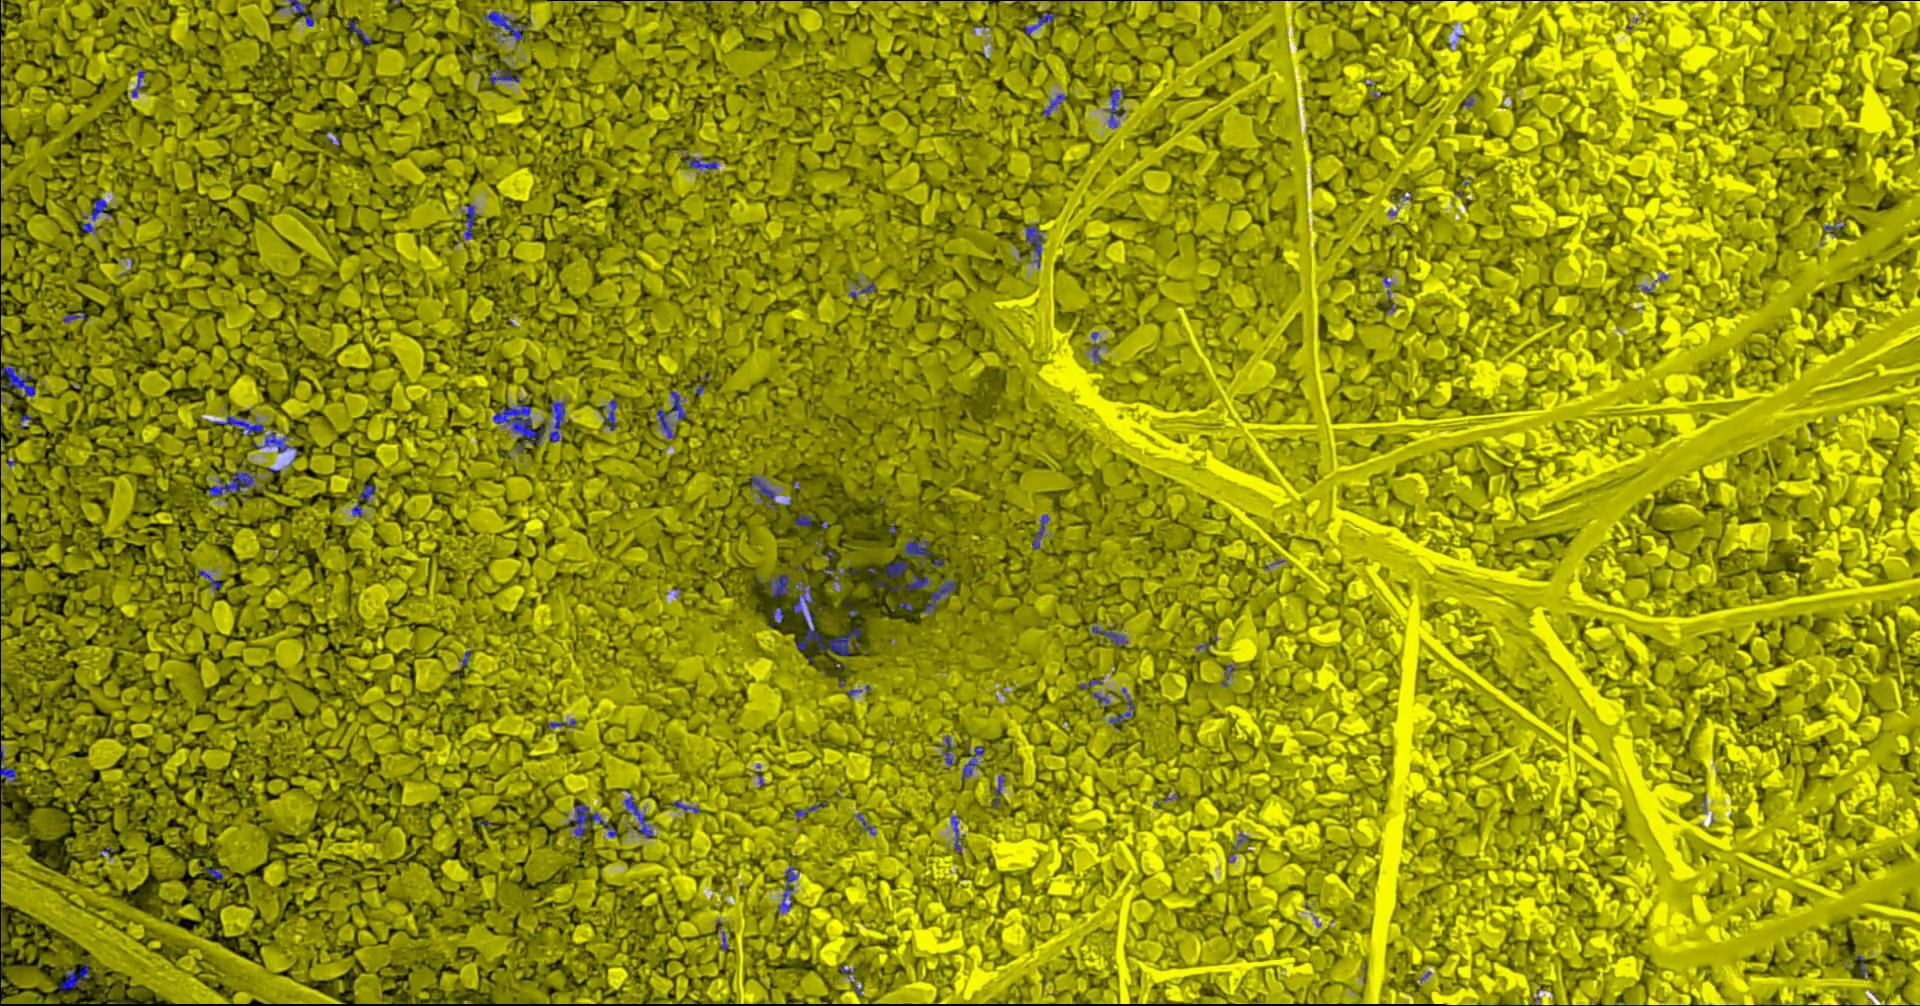ant: (491, 398, 543, 450), (0, 720, 17, 821), (568, 803, 616, 837), (657, 390, 684, 438), (207, 469, 255, 495), (623, 796, 654, 838), (484, 10, 527, 39), (210, 415, 263, 436), (263, 431, 301, 459), (0, 366, 34, 396), (777, 865, 799, 913), (924, 580, 955, 614), (750, 474, 777, 509), (276, 0, 312, 25), (1109, 694, 1135, 728), (58, 962, 89, 989), (961, 746, 984, 781), (1025, 225, 1044, 267), (1023, 11, 1057, 36), (549, 401, 568, 442), (1091, 626, 1128, 647), (888, 573, 927, 591), (1107, 89, 1125, 127), (347, 19, 371, 46), (903, 537, 930, 560), (83, 198, 110, 220), (764, 573, 789, 597), (1040, 94, 1065, 117), (795, 801, 827, 818), (1032, 514, 1048, 549), (489, 67, 519, 84), (950, 815, 963, 854), (198, 569, 221, 589), (1383, 276, 1396, 311), (603, 399, 617, 431), (848, 281, 875, 297), (855, 813, 875, 835), (883, 560, 907, 578), (682, 158, 717, 169), (463, 203, 475, 239), (130, 69, 143, 97), (358, 483, 375, 504), (672, 800, 700, 813), (767, 607, 783, 627), (993, 774, 1004, 796), (547, 718, 575, 727), (943, 735, 952, 763), (1857, 955, 1868, 977), (62, 312, 86, 323), (1079, 678, 1102, 688), (794, 513, 811, 526), (204, 866, 222, 878), (81, 222, 97, 232)
